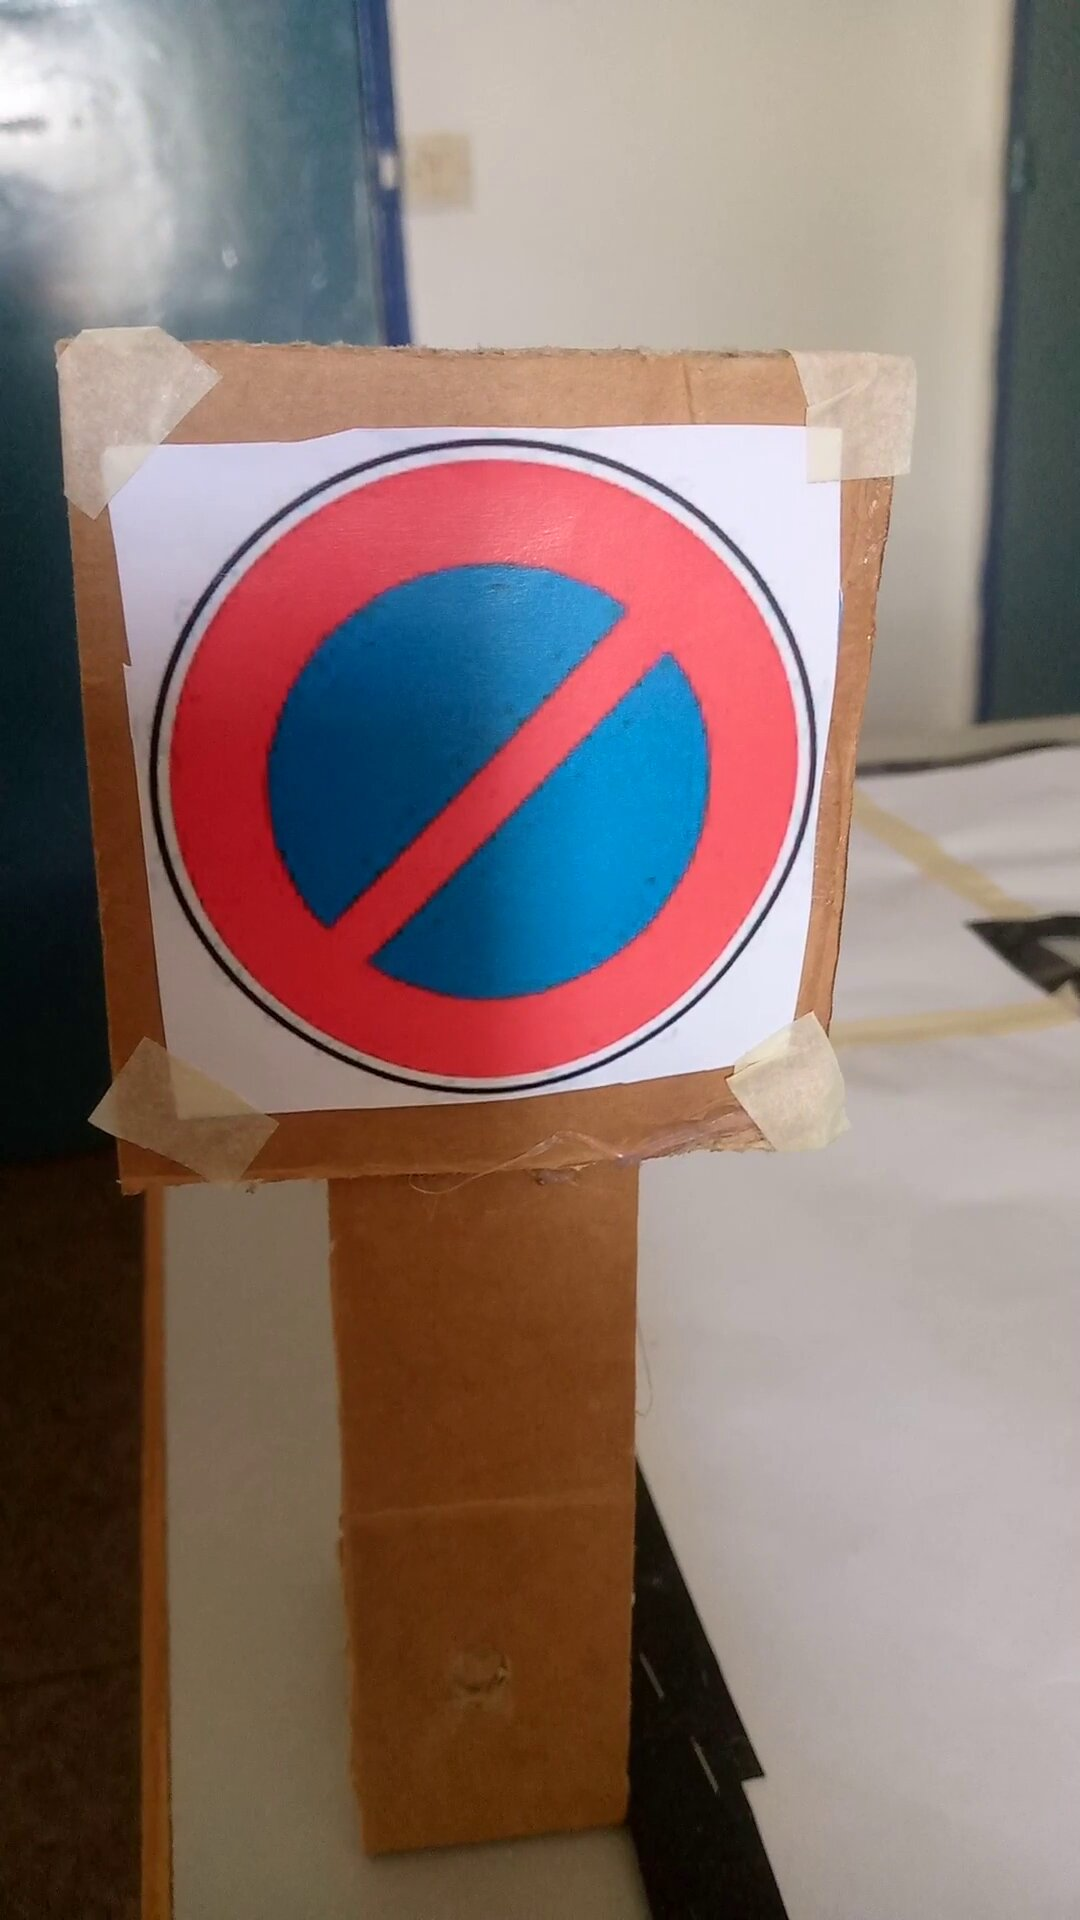panel110: (78, 429, 841, 1095)
